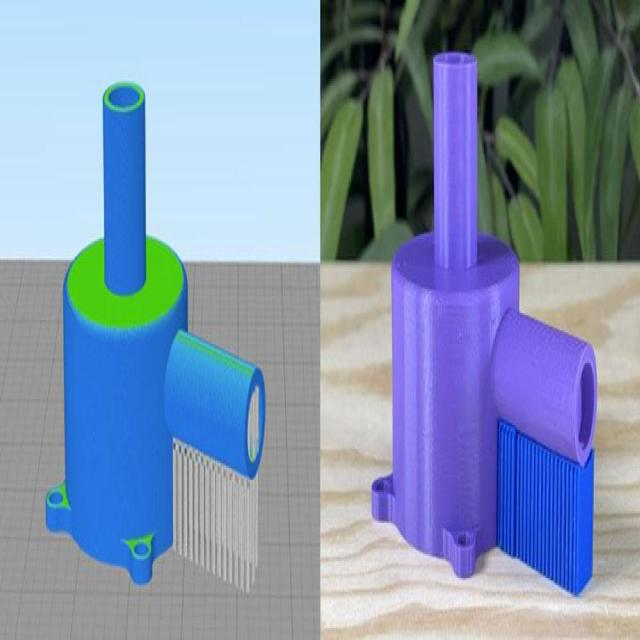Without deffect: (378, 25, 604, 620)
